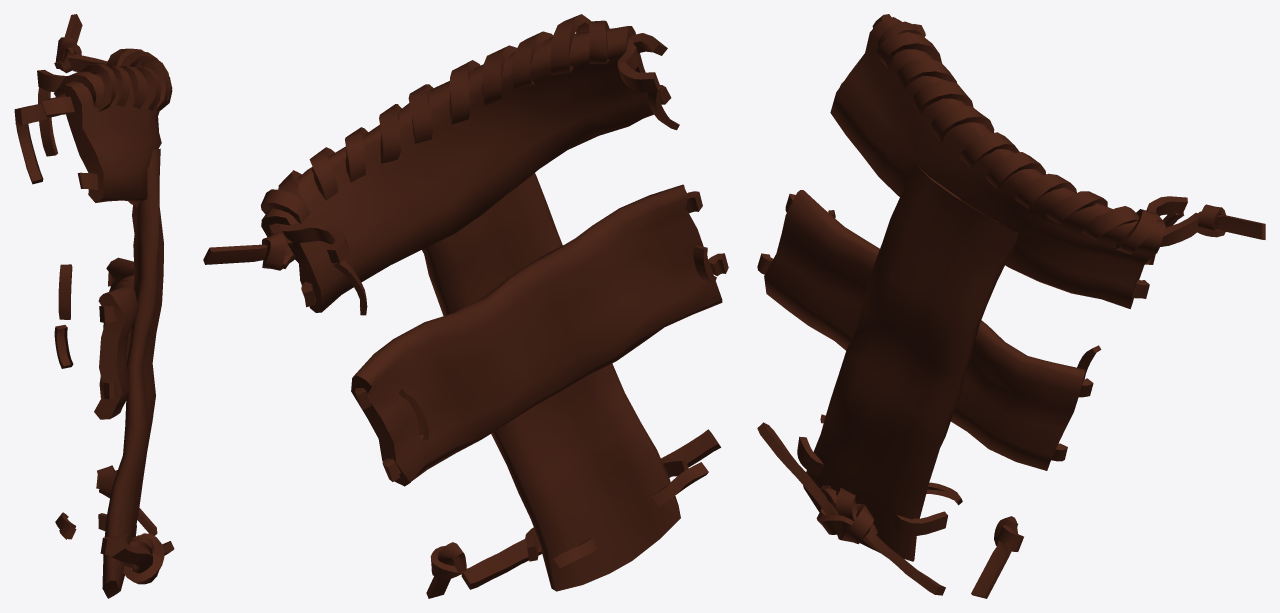
Rendered from singlePostOB.glb.
The picture shows the model from 3 angles, left to right: view 1: azimuth 30°, elevation 25°; view 2: azimuth 150°, elevation 25°; view 3: azimuth 270°, elevation 25°; orthographic projection. The views are drawn at different scales.
Visible parts, largest first — view 1: singlePostOB, singlePostOBProps; view 2: singlePostOB, singlePostOBProps; view 3: singlePostOB, singlePostOBProps.
Part boxes in pixels (<box>): singlePostOB: <box>53,59,163,598</box>; singlePostOBProps: <box>14,14,174,584</box>; singlePostOB: <box>261,26,722,591</box>; singlePostOBProps: <box>203,14,728,598</box>; singlePostOB: <box>764,17,1165,561</box>; singlePostOBProps: <box>757,14,1265,598</box>.
Bounding box in the file's own units: 0.2188 × 0.438 × 0.3842.
